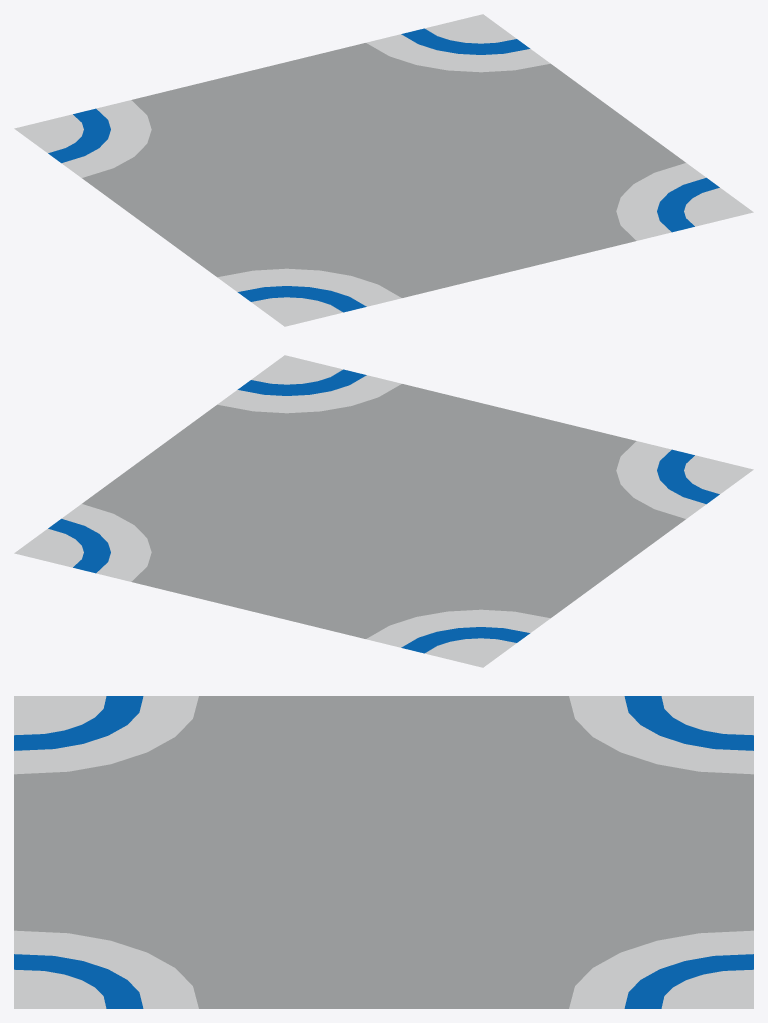
Rendered from Ceiling_type_A_022.fbx.
The picture shows the model from 3 angles, top to bottom: view 1: azimuth 30°, elevation 25°; view 2: azimuth 150°, elevation 25°; view 3: azimuth 270°, elevation 25°; orthographic projection. The views are drawn at different scales.
Parts seen in each view (by area): view 1: Ceiling_type_A_022; view 2: Ceiling_type_A_022; view 3: Ceiling_type_A_022.
Boxes of the visible parts, box(x1,y1,x2,y2) form: Ceiling_type_A_022: box(14, 14, 753, 326); Ceiling_type_A_022: box(14, 355, 753, 667); Ceiling_type_A_022: box(14, 696, 753, 1008).
Size of the model in its own units: 400 by 400 by 5.71.
